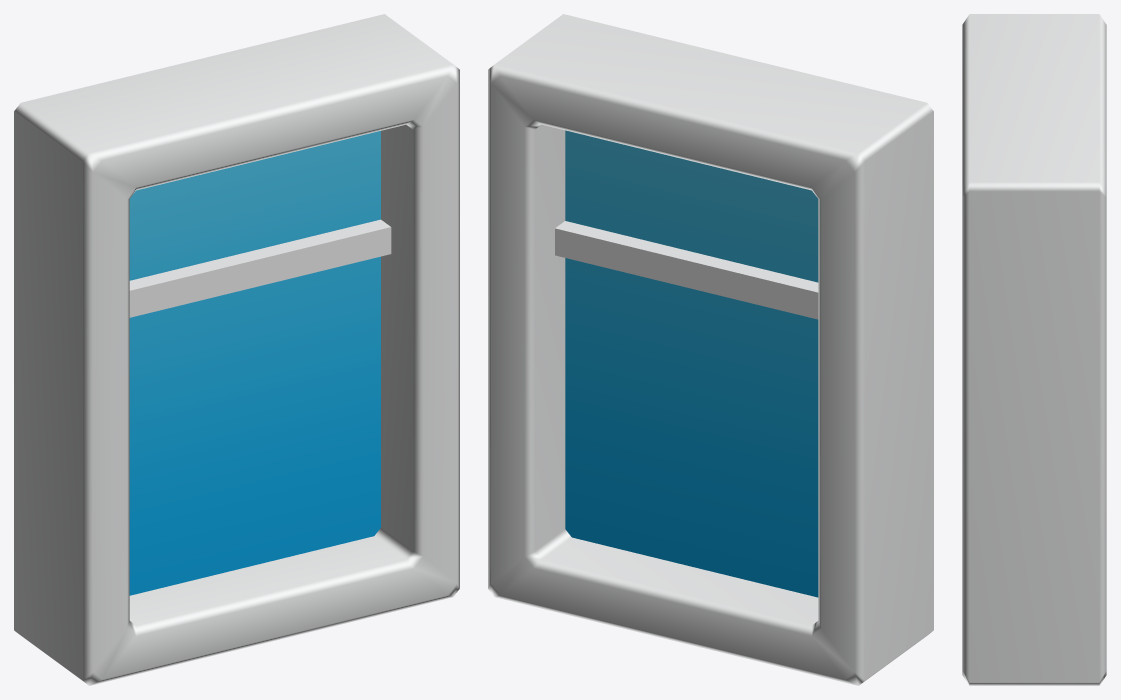
File: Window_White_11.glb
The picture shows the model from 3 angles, left to right: view 1: azimuth 30°, elevation 25°; view 2: azimuth 150°, elevation 25°; view 3: azimuth 270°, elevation 25°; orthographic projection. The views are drawn at different scales.
Visible parts, largest first — view 1: Window_White_11; view 2: Window_White_11; view 3: Window_White_11.
Part boxes in pixels (box(x1,y1,x2,y2)): Window_White_11: box(14, 14, 459, 685); Window_White_11: box(488, 14, 933, 685); Window_White_11: box(962, 14, 1106, 685).
Bounding box in the file's own units: 1.14 × 1.54 × 0.4.
2 materials, 2 textured.
